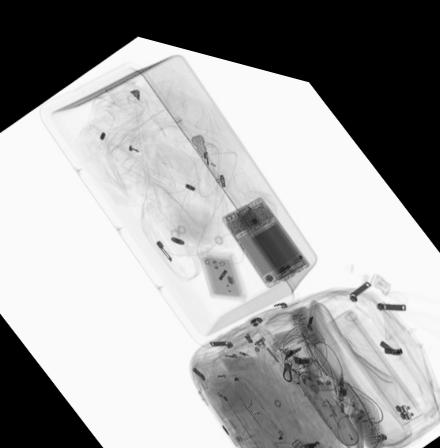Powerbank: (202, 244, 243, 284)
